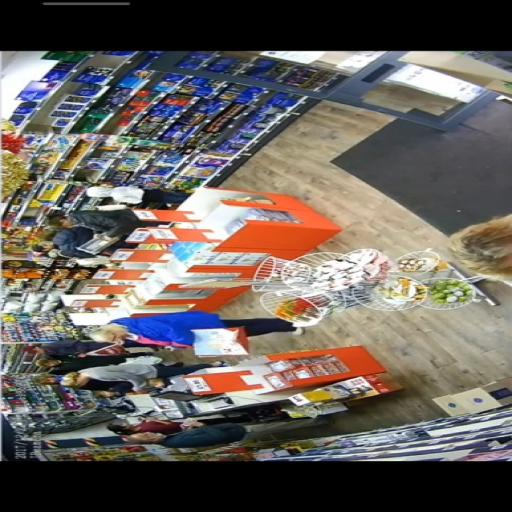workers: (89, 310, 305, 350), (61, 354, 235, 394), (44, 209, 139, 259)
